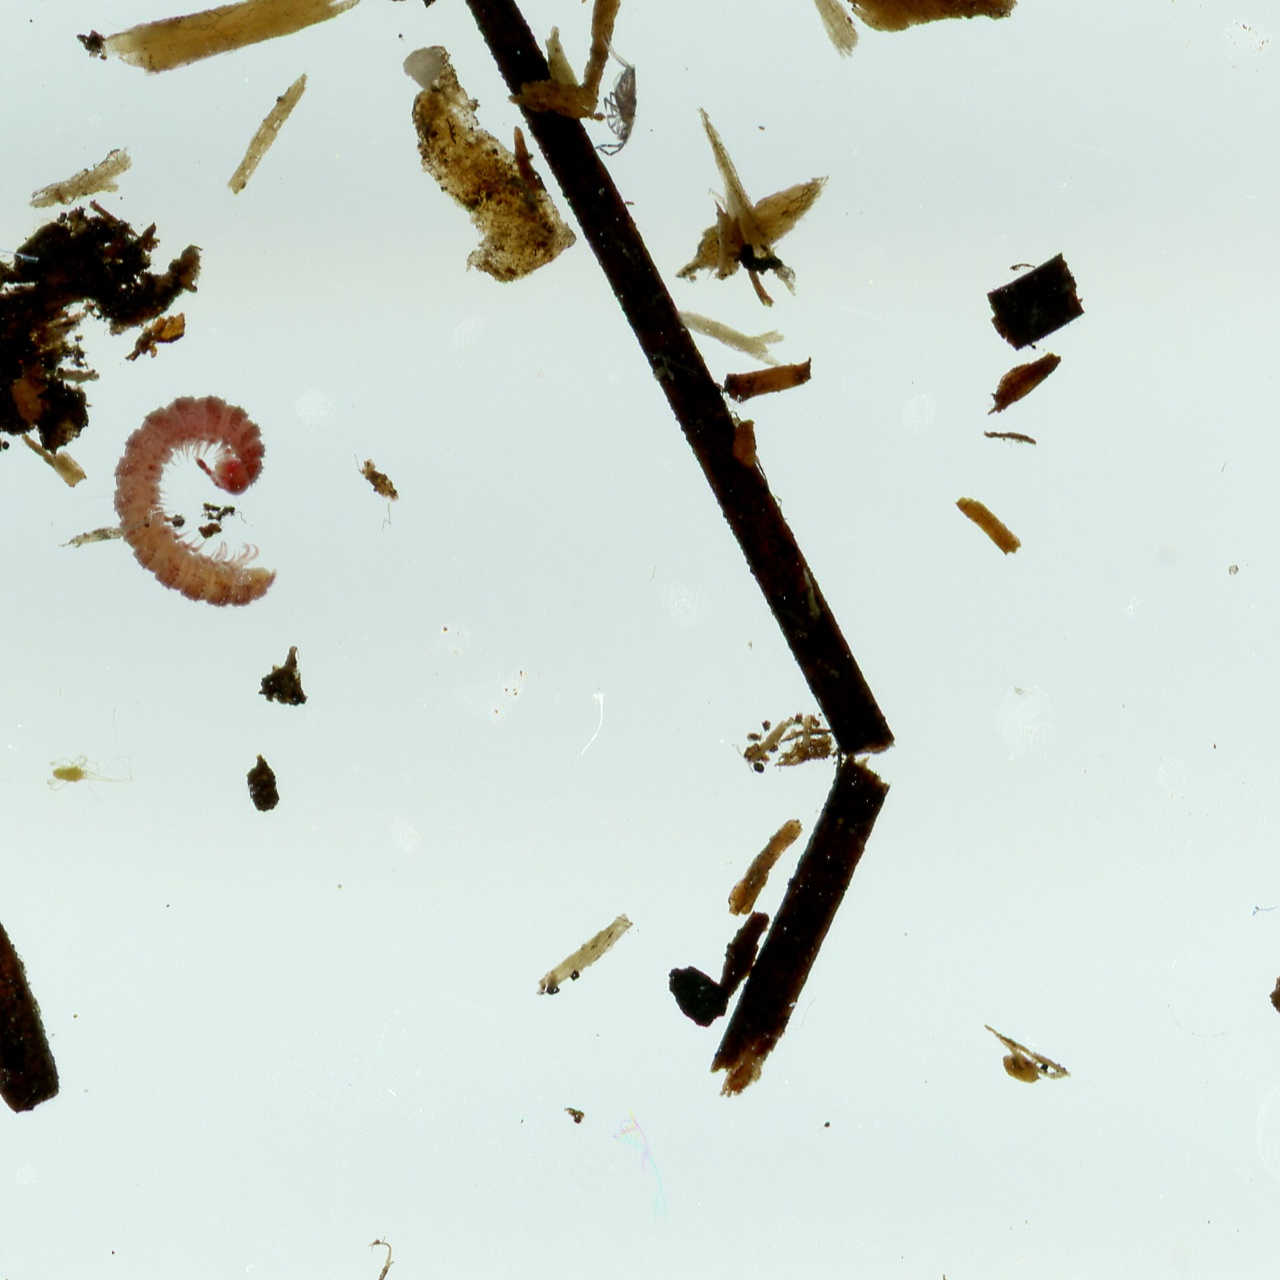arthropod: (104, 387, 282, 612), (591, 27, 645, 162), (42, 752, 137, 805), (351, 451, 401, 506)
